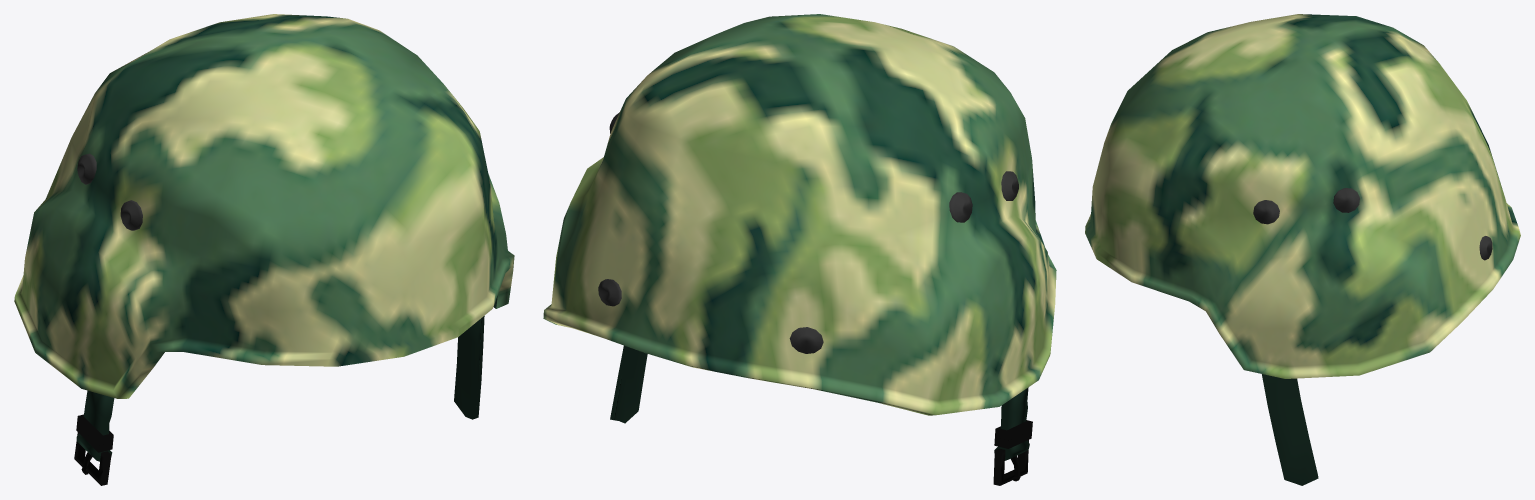
File: maozi.fbx
The picture shows the model from 3 angles, left to right: view 1: azimuth 30°, elevation 25°; view 2: azimuth 150°, elevation 25°; view 3: azimuth 270°, elevation 25°; orthographic projection. The views are drawn at different scales.
Parts seen in each view (by area): view 1: polySurface56; view 2: polySurface56; view 3: polySurface56.
Boxes of the visible parts, bbox=[...] form: polySurface56: bbox=[14, 14, 514, 485]; polySurface56: bbox=[543, 14, 1056, 485]; polySurface56: bbox=[1085, 14, 1520, 485].
Bounding box in the file's own units: 59.4 × 56.24 × 60.54.
Materials: 1 (1 with a texture image).
